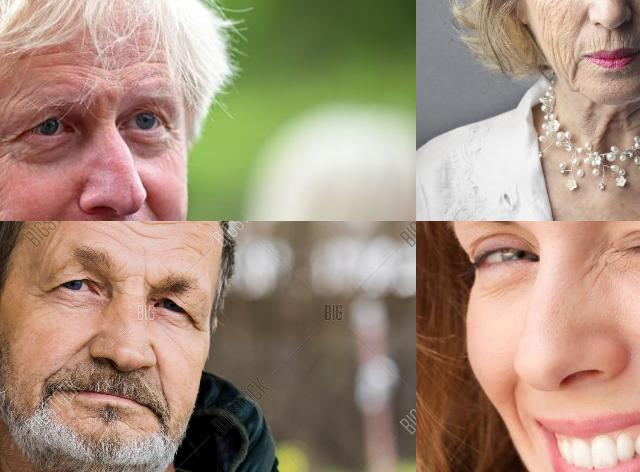bunny_line: (579, 262, 603, 286)
crows_feet: (26, 278, 52, 304), (0, 126, 16, 158)
forehead: (30, 44, 80, 72), (128, 221, 168, 247), (184, 229, 208, 261), (97, 226, 119, 244)
frown_line: (139, 266, 153, 294), (113, 272, 127, 294)
gummy_smile: (49, 336, 89, 374), (505, 380, 527, 430), (154, 361, 172, 404), (142, 198, 169, 221)
masseter: (546, 40, 574, 76), (537, 0, 551, 30)
smoker_lines: (590, 35, 638, 47)
